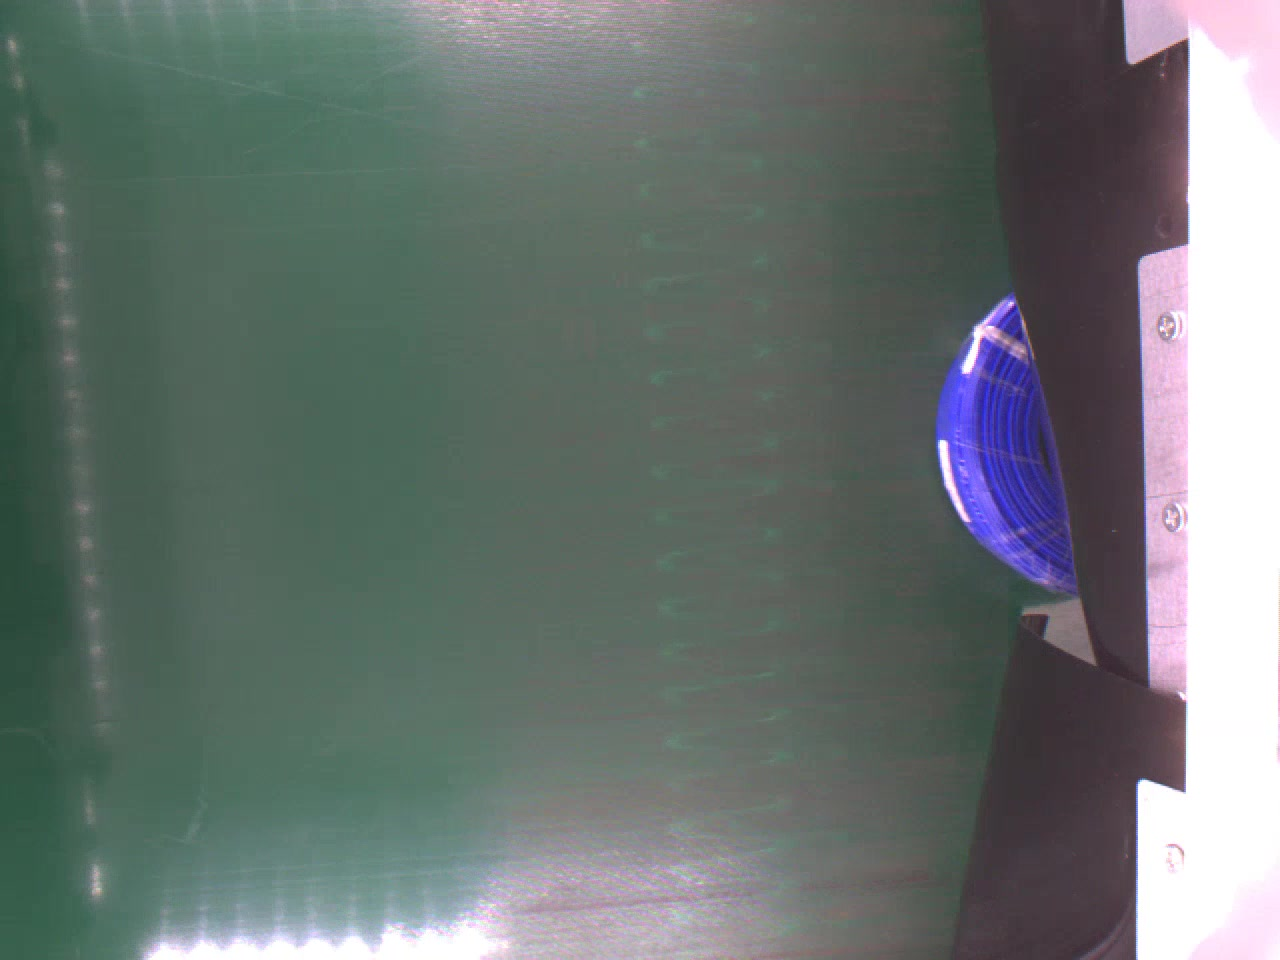blue: (936, 295, 1077, 598)
